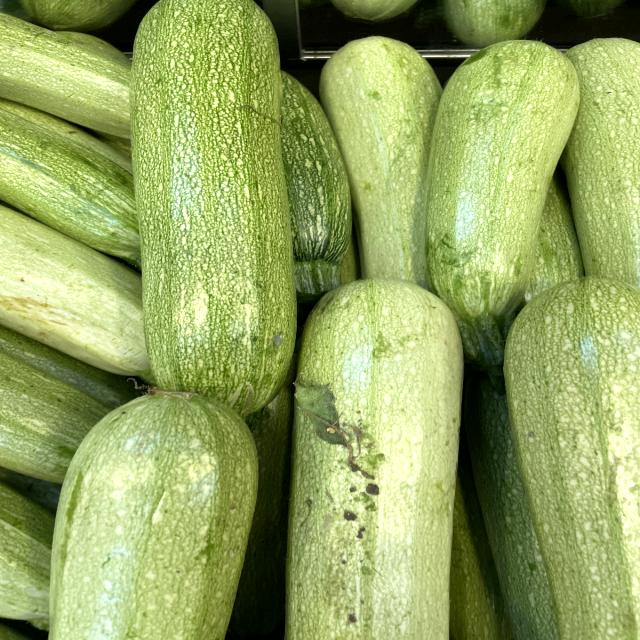zucchini: (133, 1, 303, 406), (416, 32, 596, 367)
